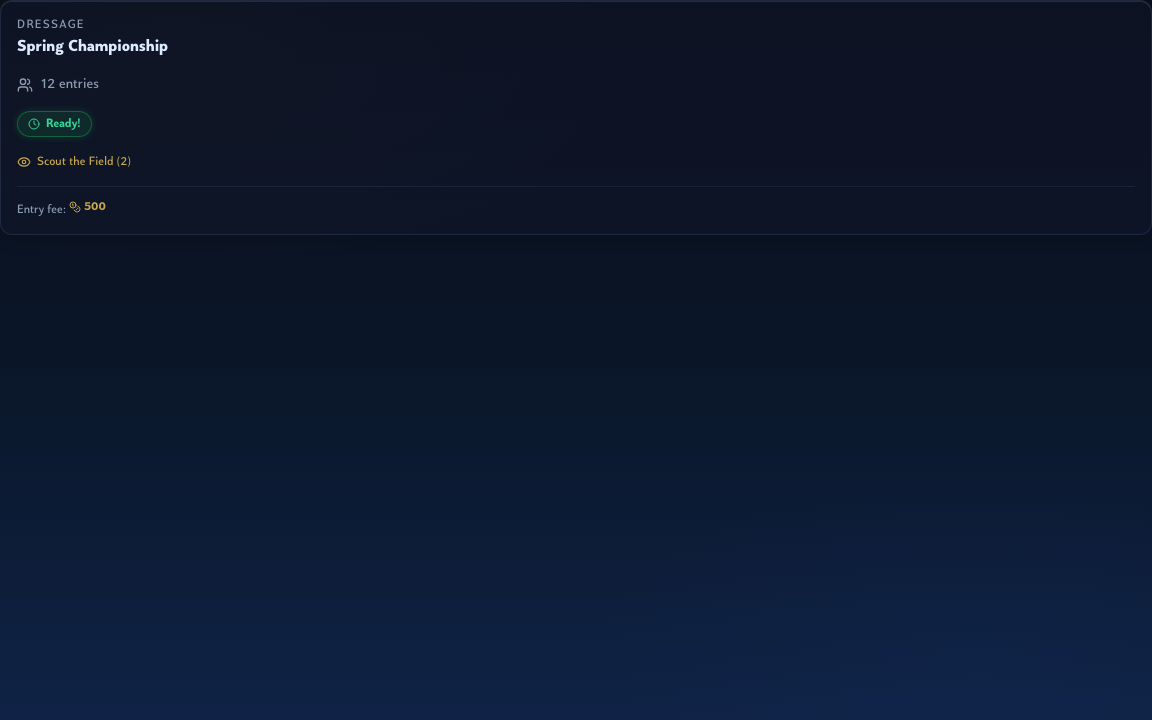
Test: CompetitionFieldPreview › Scout the Field › toggles scout details on button click
Check: the text "Thunder" is not shown
Note: Click to show
Click the button "Scout the Field (2)" at (74, 162), box top-left (17, 154), bottom-right (131, 170)
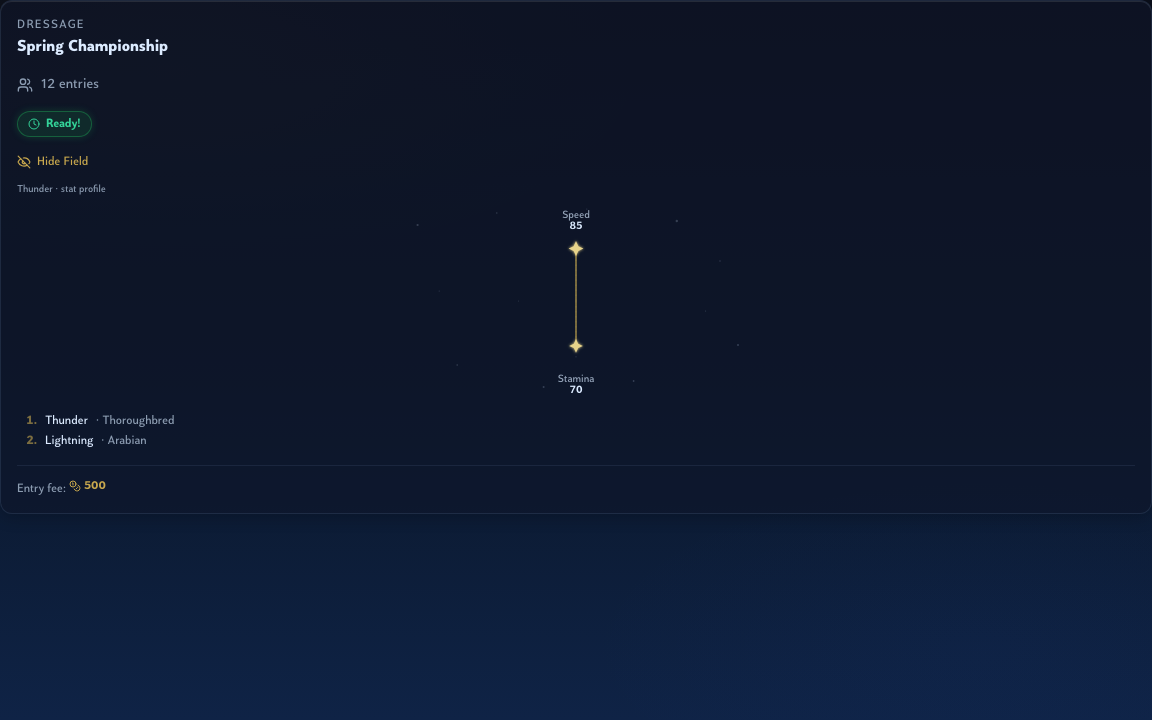
Check: the text "Thunder" is shown, box top-left (45, 413), bottom-right (88, 429)
Check: the text "Lightning" is shown, box top-left (45, 433), bottom-right (93, 449)
Note: Click to hide
Click the button "Hide Field" at (53, 162), box top-left (17, 154), bottom-right (88, 170)
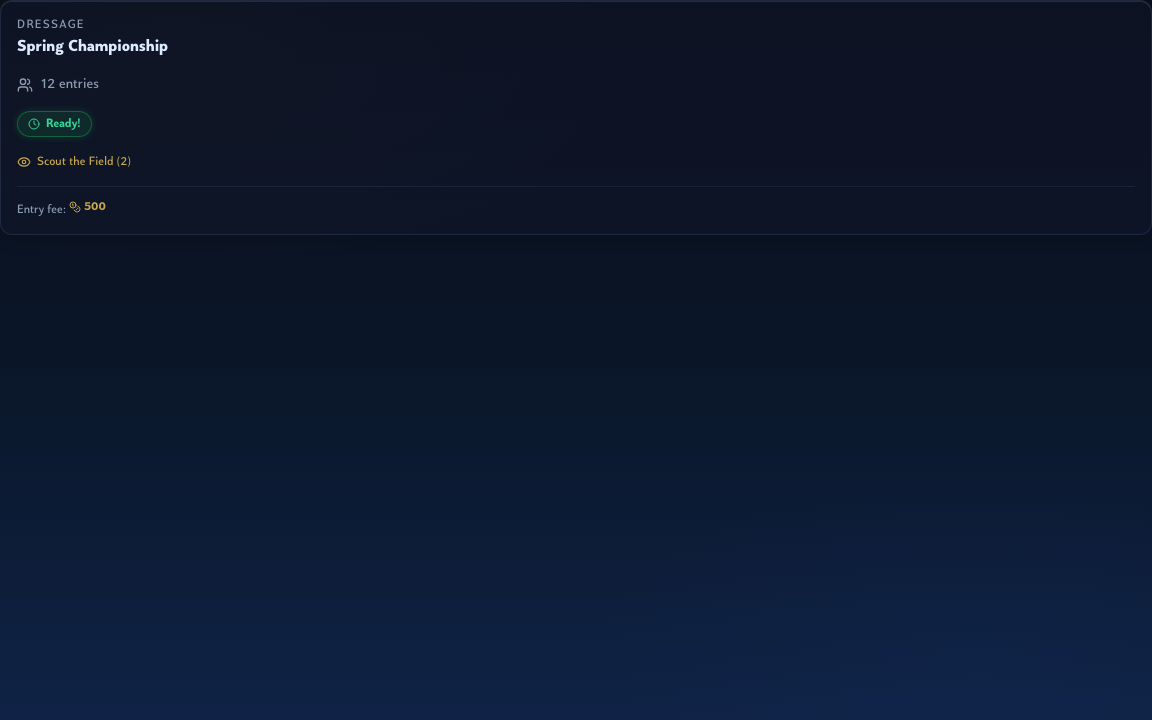
Check: the text "Thunder" is gone
